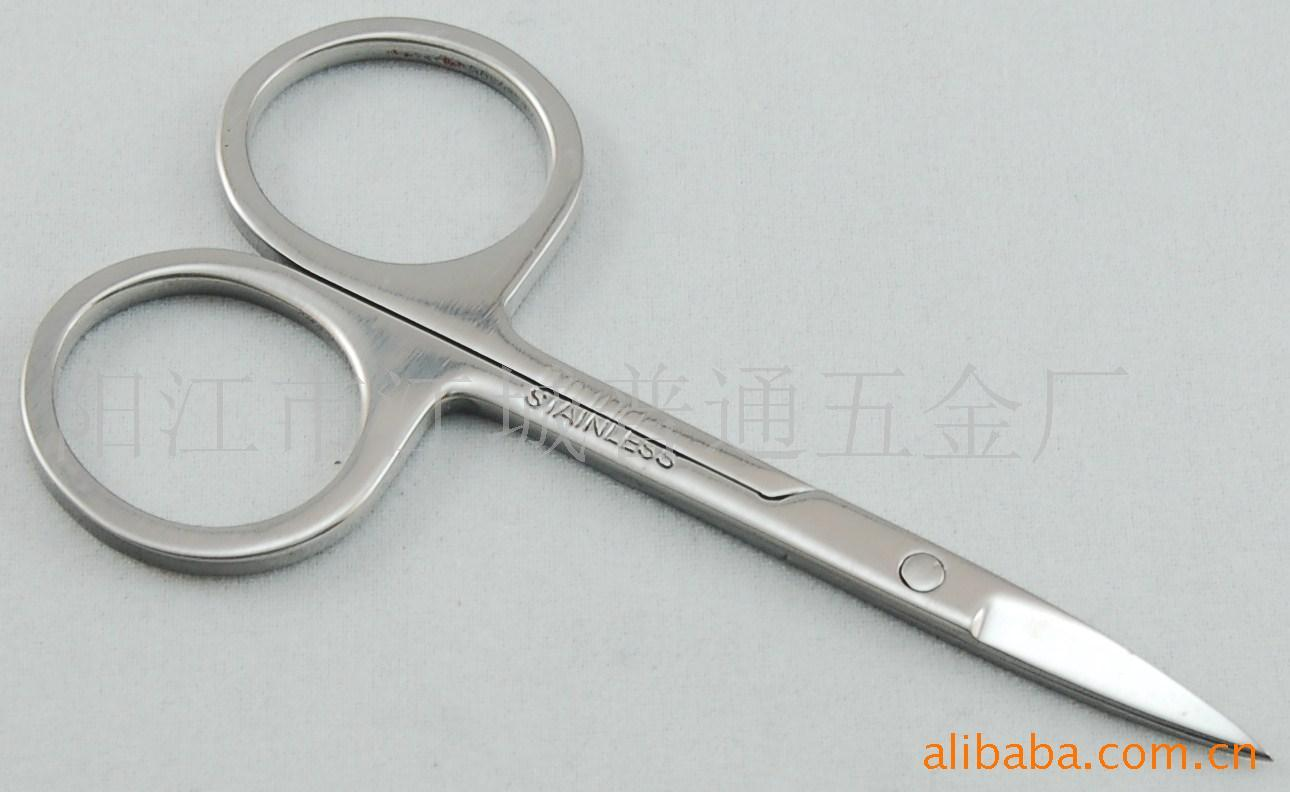scissor: (92, 64, 1203, 792)
